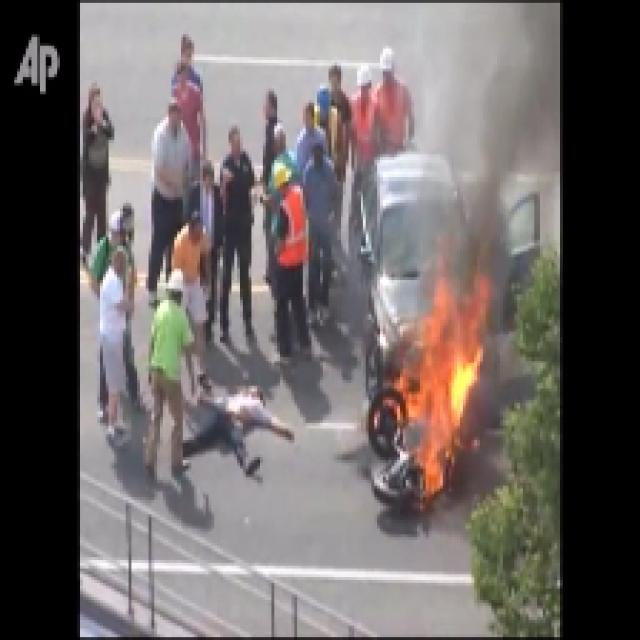fire: (405, 332, 473, 471)
